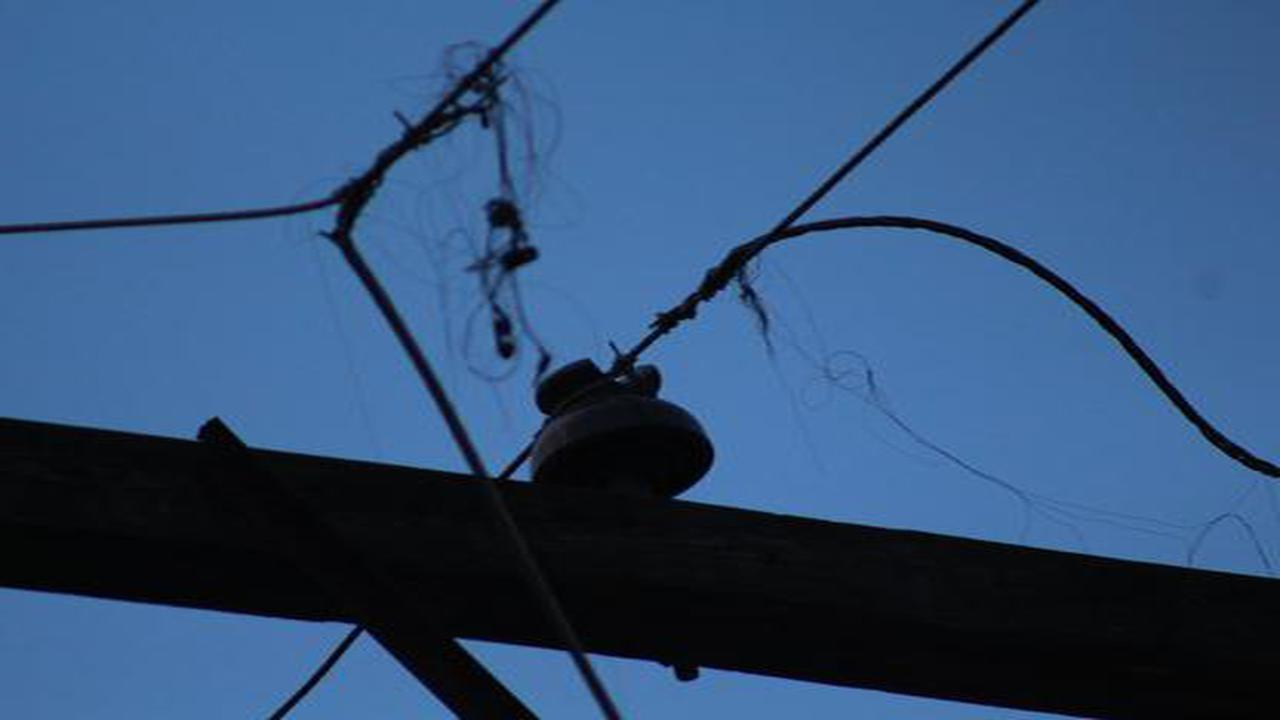insulator_pin: (528, 355, 724, 505)
